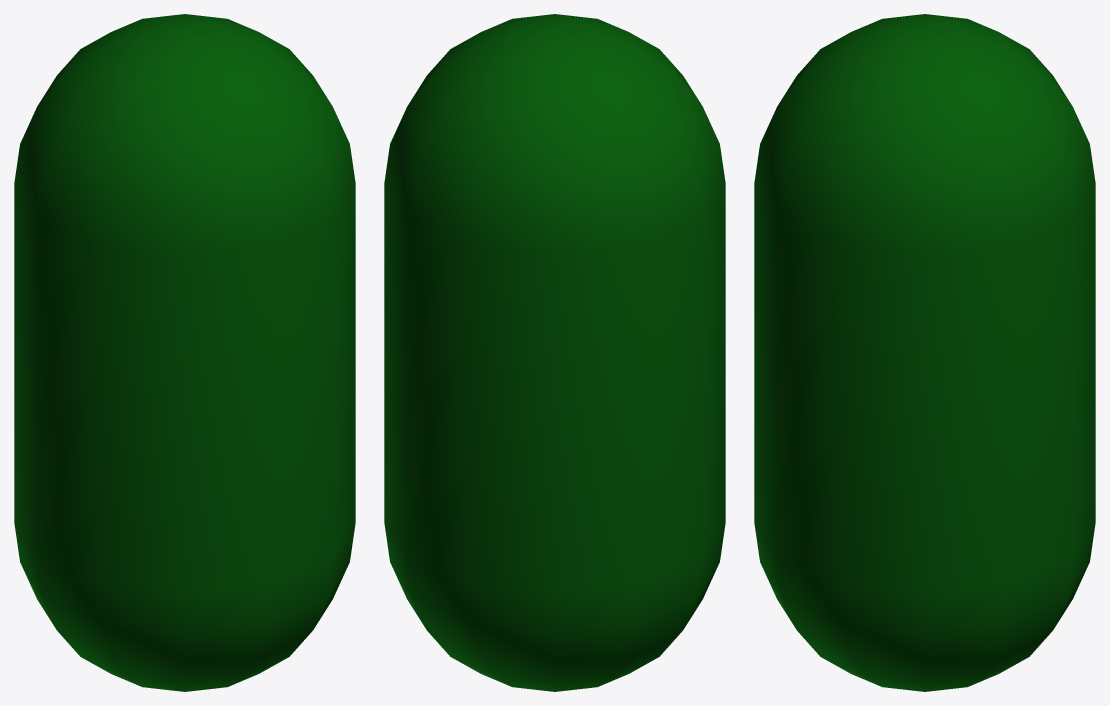
File: obj_Meisnerabbit_001.FBX
3 renders of one model, left to right at view 1: azimuth 30°, elevation 25°; view 2: azimuth 150°, elevation 25°; view 3: azimuth 270°, elevation 25°, orthographic.
Parts seen in each view (by area): view 1: mesh_Meisnerabbit_001; view 2: mesh_Meisnerabbit_001; view 3: mesh_Meisnerabbit_001.
Part boxes in pixels (box(x1,y1,x2,y2)): mesh_Meisnerabbit_001: box(14, 14, 355, 691); mesh_Meisnerabbit_001: box(384, 14, 725, 691); mesh_Meisnerabbit_001: box(754, 14, 1095, 691).
Bounding box in the file's own units: 139 × 291 × 139.
